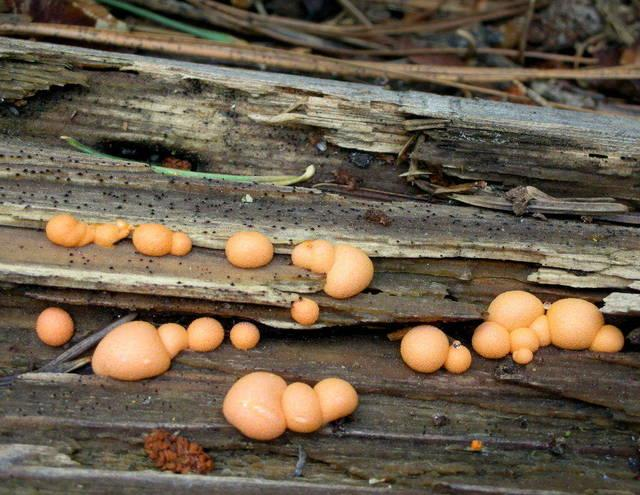poisonous_mushroom: (90, 319, 171, 381), (221, 370, 286, 440), (546, 296, 603, 350), (323, 243, 374, 299), (399, 323, 449, 373), (485, 289, 544, 330), (281, 380, 323, 433), (313, 376, 358, 423), (224, 229, 274, 268), (35, 305, 74, 347), (290, 237, 334, 274), (44, 212, 87, 247), (131, 221, 172, 256), (187, 315, 224, 352), (229, 320, 260, 350), (289, 296, 319, 325)
